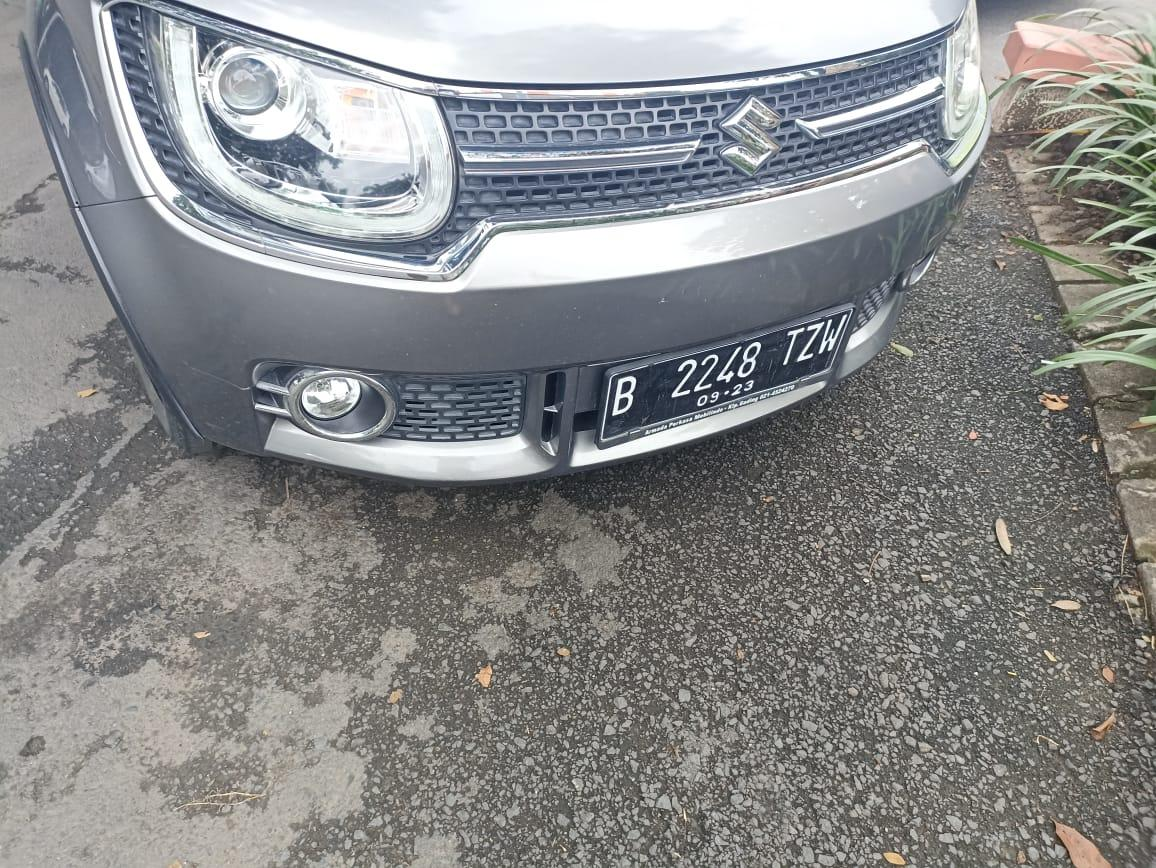plat: (596, 305, 853, 447)
